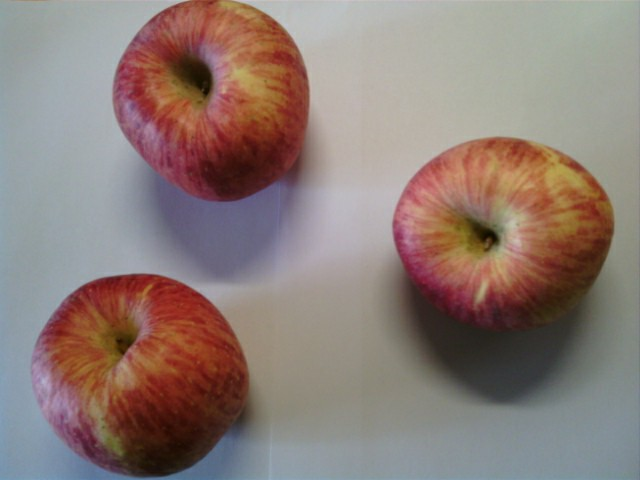normal_apple: (30, 271, 250, 480), (392, 134, 615, 334), (111, 2, 311, 200)
